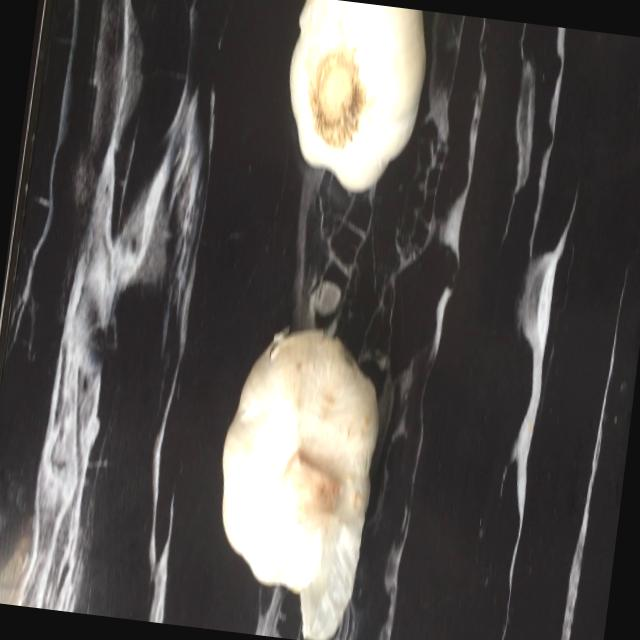bawang: (195, 307, 396, 640), (257, 0, 446, 203)
